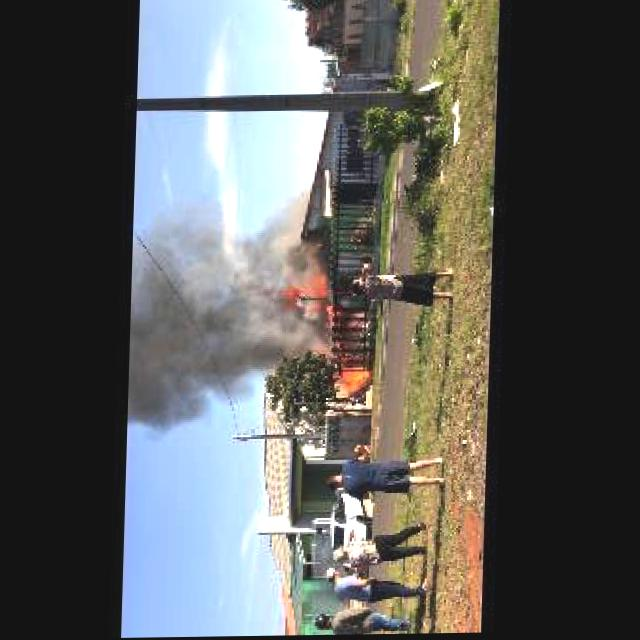helmet: (268, 270, 334, 329), (338, 367, 378, 400)
no_helmet: (128, 212, 277, 433)
